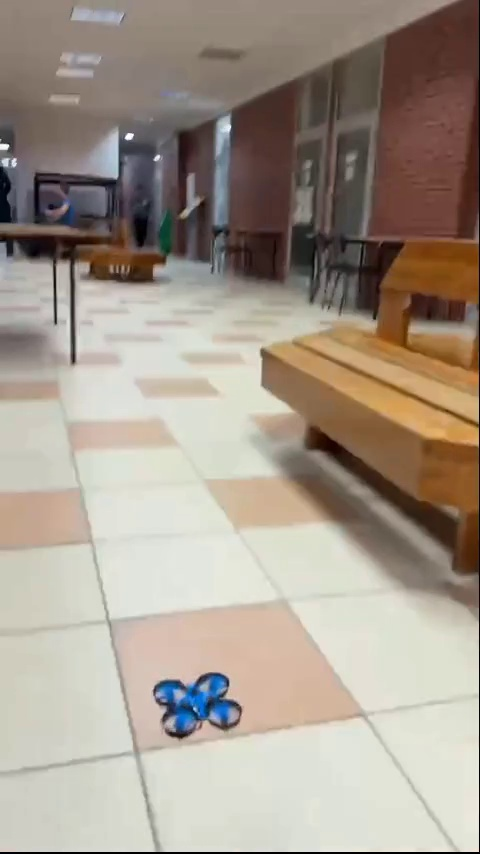drone: (150, 673, 236, 739)
no vest: (120, 174, 165, 252), (47, 177, 80, 232)
